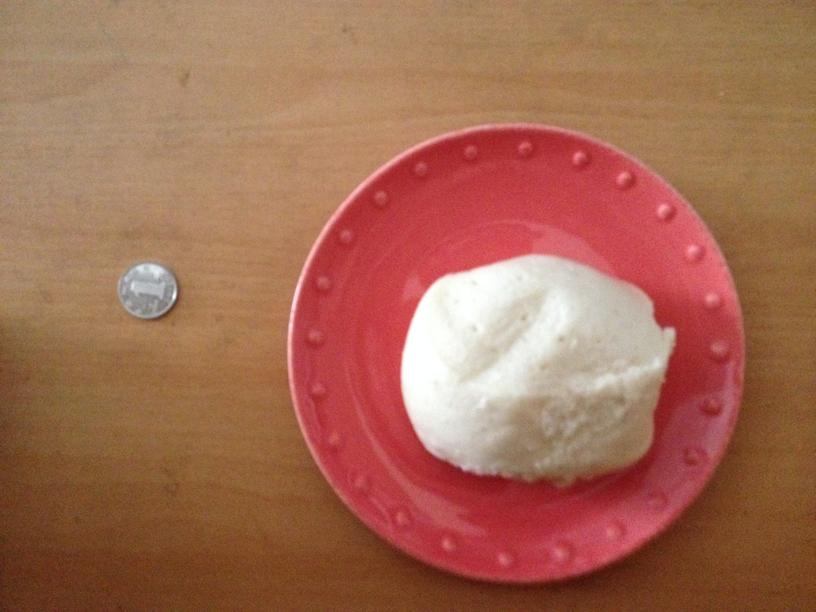bun: (395, 251, 661, 480)
coin: (115, 262, 179, 319)
